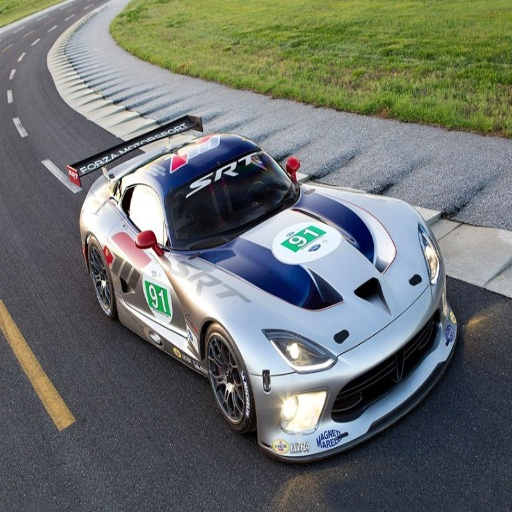front_bumper: (249, 308, 454, 462)
front_right_door: (121, 185, 193, 348)
front_right_light: (263, 329, 330, 372)
trunk: (339, 267, 429, 348)
